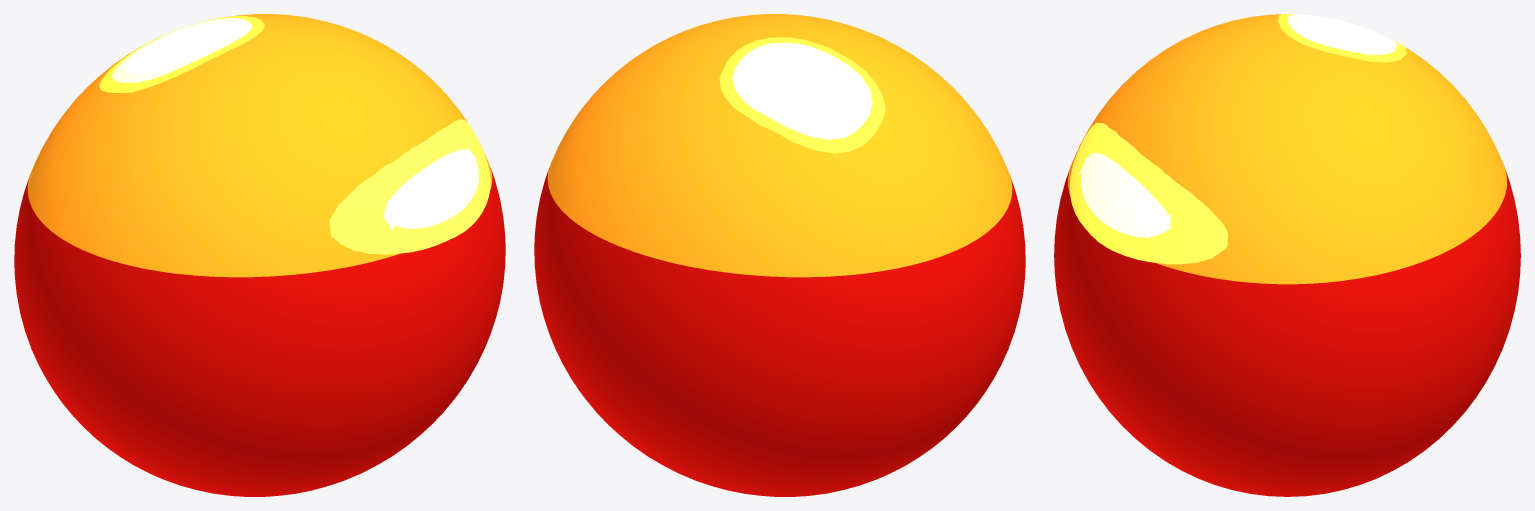
Rendered from fire_orb.glb.
3 views of the same model, side by side, from view 1: azimuth 30°, elevation 25°; view 2: azimuth 150°, elevation 25°; view 3: azimuth 270°, elevation 25° (orthographic).
Parts seen in each view (by area): view 1: fire_orb; view 2: fire_orb; view 3: fire_orb.
Part boxes in pixels (<box>): fire_orb: <box>14,14,505,496</box>; fire_orb: <box>534,14,1025,496</box>; fire_orb: <box>1054,14,1520,496</box>.
Bounding box in the file's own units: 18 × 17.5 × 17.
